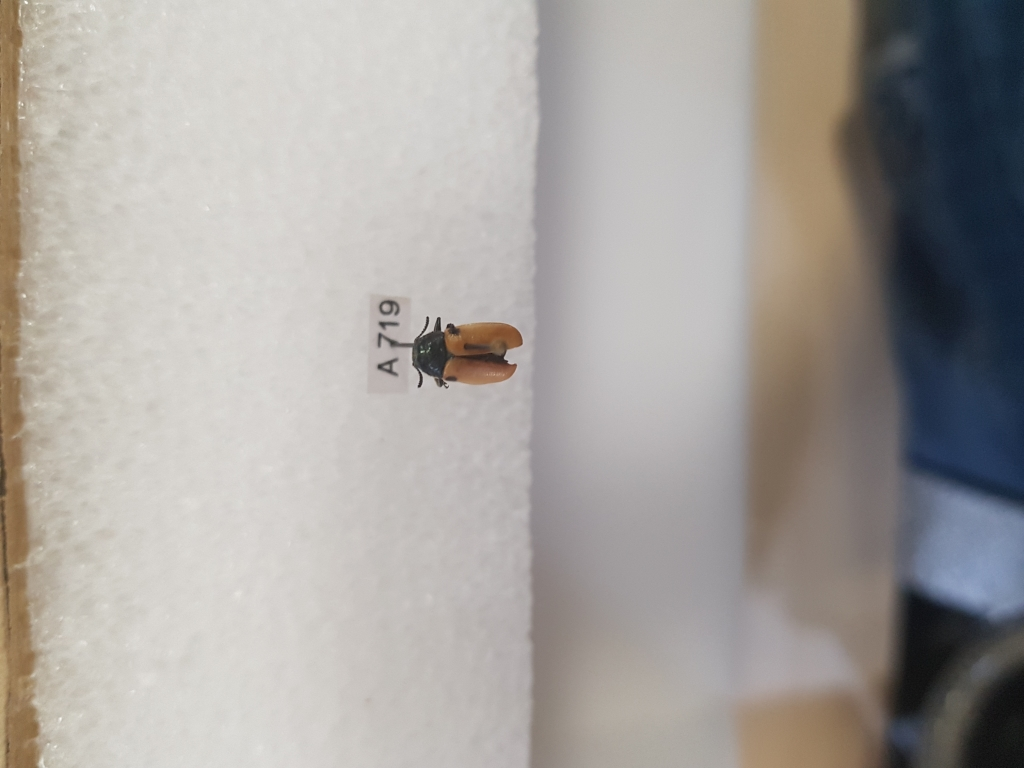Labidostomis_propinqua: (409, 315, 524, 392)
